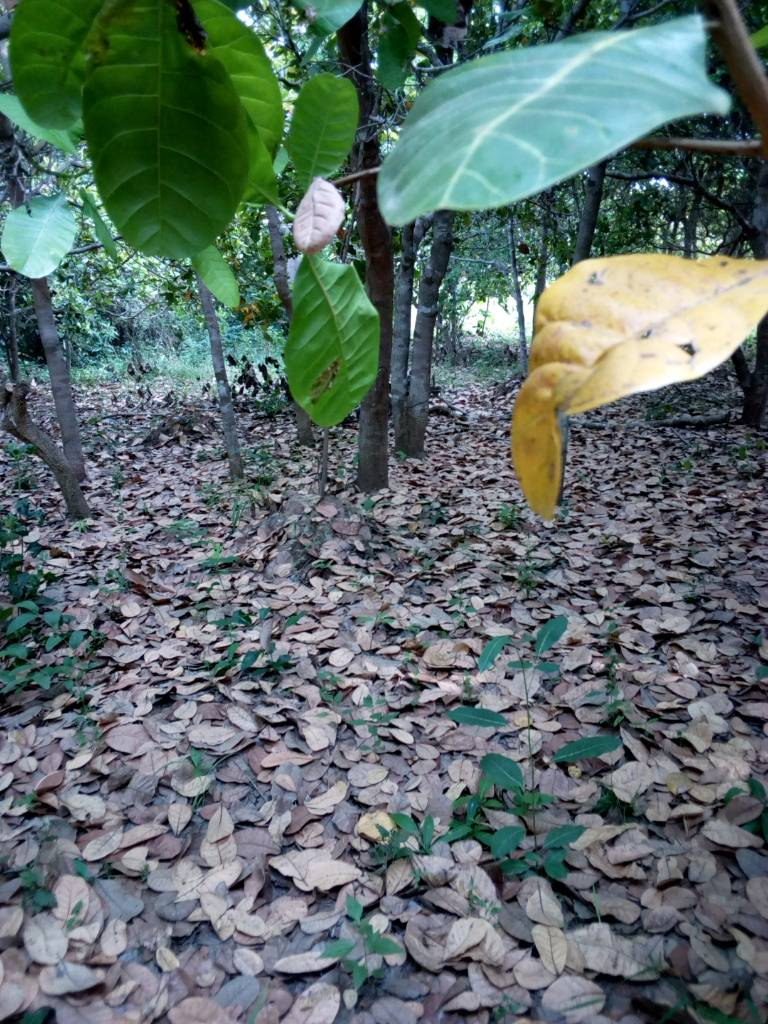Bactériose: (515, 255, 763, 522), (290, 255, 379, 425)
